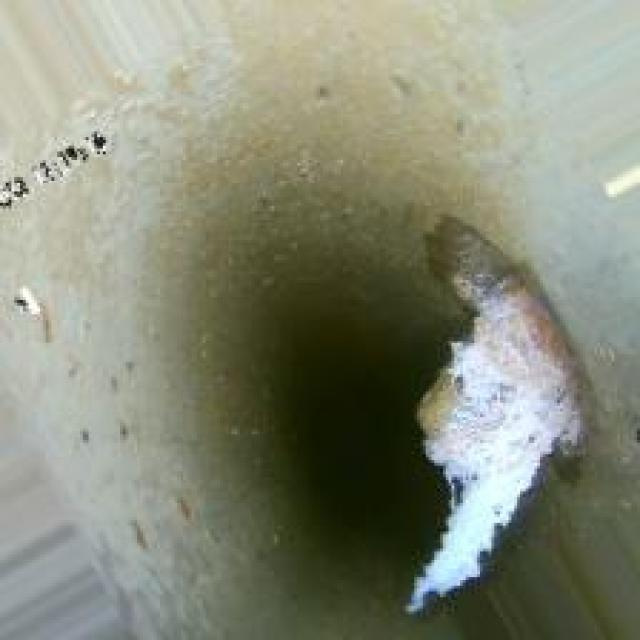ferrule: (380, 234, 589, 477)
